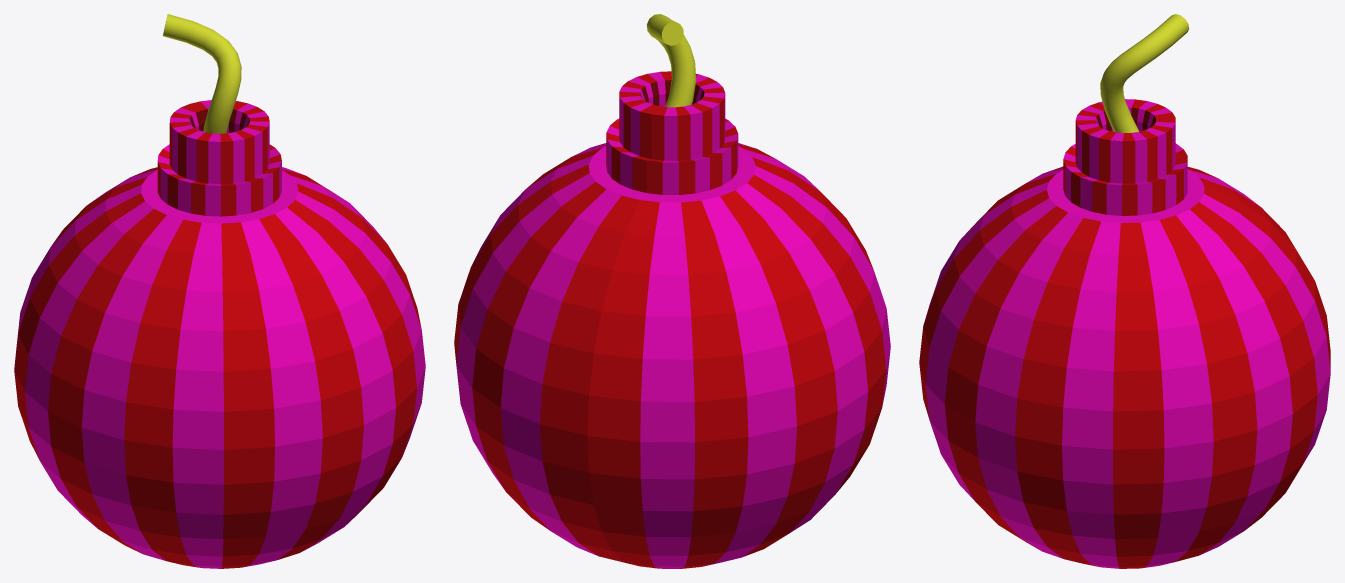
Rendered from BombBalloon.fbx.
3 renders of one model, left to right at view 1: azimuth 30°, elevation 25°; view 2: azimuth 150°, elevation 25°; view 3: azimuth 270°, elevation 25°, orthographic. The views are drawn at different scales.
Parts seen in each view (by area): view 1: Bomb; view 2: Bomb; view 3: Bomb.
Part boxes in pixels (left/top/right/bottom): Bomb: left=14, top=14, right=425, bottom=568; Bomb: left=454, top=14, right=890, bottom=568; Bomb: left=919, top=14, right=1330, bottom=568.
Size of the model in its own units: 2 by 1.99 by 2.79.
